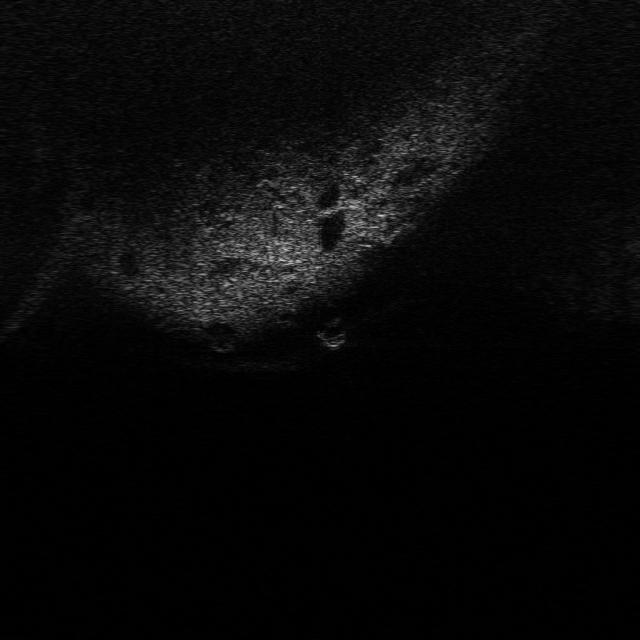ball: (312, 318, 354, 353)
